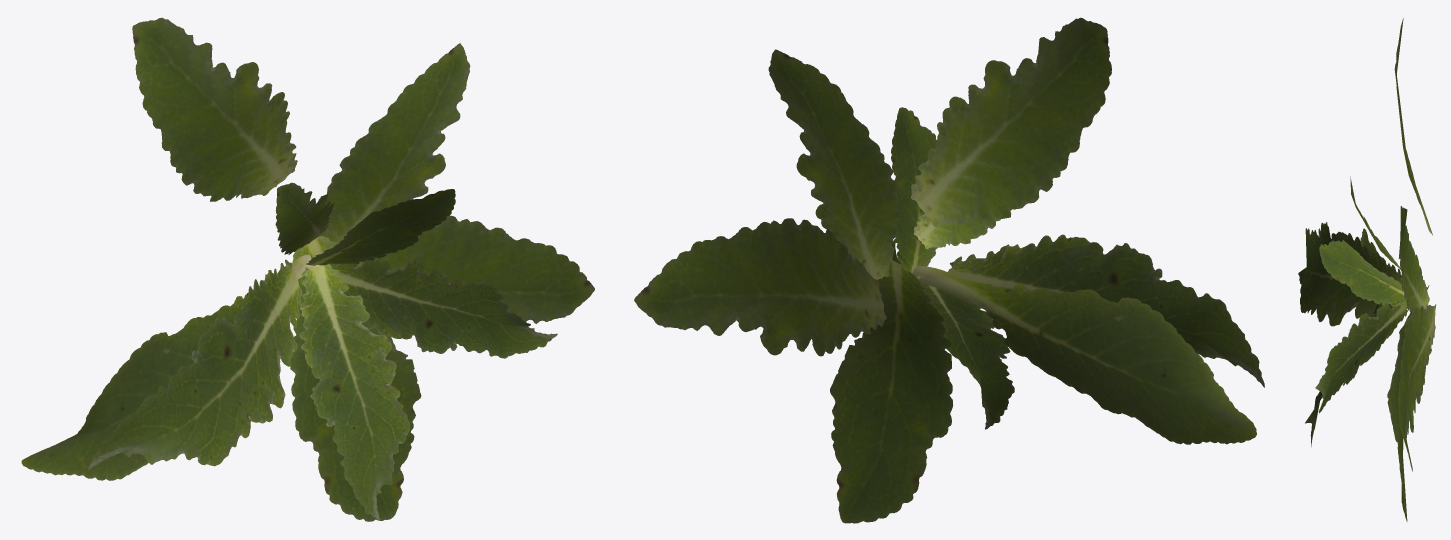
File: Weed_01_Var3_LOD1.fbx
3 views of the same model, side by side, from view 1: azimuth 30°, elevation 25°; view 2: azimuth 150°, elevation 25°; view 3: azimuth 270°, elevation 25° (orthographic). The views are drawn at different scales.
Visible parts, largest first — view 1: Var3_LOD1; view 2: Var3_LOD1; view 3: Var3_LOD1.
Boxes of the visible parts, x1=… form: Var3_LOD1: x1=21, y1=17, x2=594, y2=521; Var3_LOD1: x1=634, y1=17, x2=1264, y2=523; Var3_LOD1: x1=1298, y1=18, x2=1436, y2=521.
Size of the model in its own units: 19.3 by 17.12 by 5.19.
